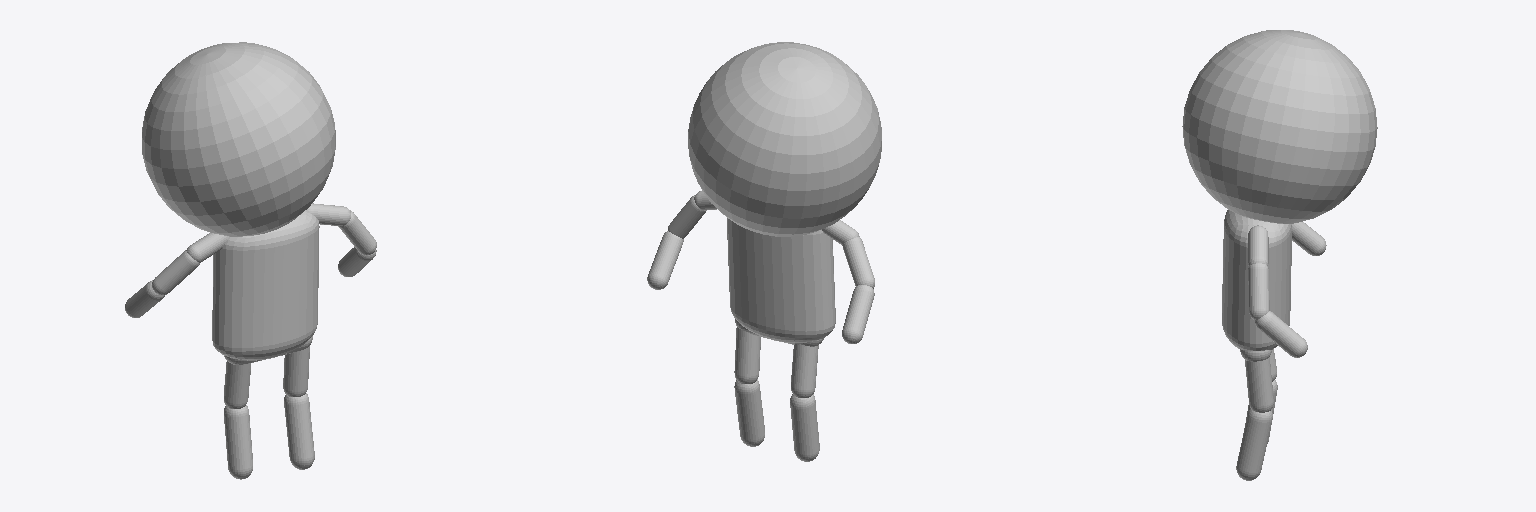
Rendered from Stickman_000071.obj.
The picture shows the model from 3 angles: view 1: azimuth 30°, elevation 25°; view 2: azimuth 150°, elevation 25°; view 3: azimuth 270°, elevation 25°; orthographic projection.
Parts seen in each view (by area): view 1: Head_Sphere.001, Body_Roundcube.002, LowerLegLeft_Roundcube.013, LowerLegRight_Roundcube.011, UpperLegLeft_Roundcube.012, UpperLegRight_Roundcube.010, UpperArmRight_Roundcube.015, UpperArmLeft_Roundcube.018, LowerArmRight_Roundcube.016, ShoulderLeft_Roundcube.017, ShoulderRight_Roundcube.014, LowerArmLeft_Roundcube.019; view 2: Head_Sphere.001, Body_Roundcube.002, LowerLegRight_Roundcube.011, LowerLegLeft_Roundcube.013, UpperLegRight_Roundcube.010, UpperLegLeft_Roundcube.012, LowerArmRight_Roundcube.016, LowerArmLeft_Roundcube.019, UpperArmRight_Roundcube.015, UpperArmLeft_Roundcube.018; view 3: Head_Sphere.001, Body_Roundcube.002, LowerLegLeft_Roundcube.013, UpperLegLeft_Roundcube.012, LowerArmLeft_Roundcube.019, UpperArmLeft_Roundcube.018, LowerArmRight_Roundcube.016, ShoulderLeft_Roundcube.017.
Boxes of the visible parts, x1=… form: Head_Sphere.001: x1=142, y1=42, x2=335, y2=236; Body_Roundcube.002: x1=212, y1=210, x2=319, y2=360; LowerLegLeft_Roundcube.013: x1=284, y1=393, x2=314, y2=469; LowerLegRight_Roundcube.011: x1=224, y1=405, x2=252, y2=479; UpperLegLeft_Roundcube.012: x1=283, y1=346, x2=309, y2=396; UpperLegRight_Roundcube.010: x1=224, y1=361, x2=250, y2=408; UpperArmRight_Roundcube.015: x1=152, y1=250, x2=199, y2=294; UpperArmLeft_Roundcube.018: x1=338, y1=210, x2=376, y2=255; LowerArmRight_Roundcube.016: x1=125, y1=280, x2=164, y2=317; ShoulderLeft_Roundcube.017: x1=307, y1=203, x2=350, y2=225; ShoulderRight_Roundcube.014: x1=186, y1=233, x2=228, y2=262; LowerArmLeft_Roundcube.019: x1=338, y1=247, x2=376, y2=276; Head_Sphere.001: x1=688, y1=42, x2=881, y2=236; Body_Roundcube.002: x1=727, y1=218, x2=835, y2=342; LowerLegRight_Roundcube.011: x1=790, y1=394, x2=819, y2=461; LowerLegLeft_Roundcube.013: x1=734, y1=379, x2=764, y2=446; UpperLegRight_Roundcube.010: x1=791, y1=344, x2=818, y2=397; UpperLegLeft_Roundcube.012: x1=734, y1=327, x2=760, y2=383; LowerArmRight_Roundcube.016: x1=842, y1=285, x2=874, y2=343; LowerArmLeft_Roundcube.019: x1=647, y1=231, x2=683, y2=289; UpperArmRight_Roundcube.015: x1=842, y1=237, x2=874, y2=288; UpperArmLeft_Roundcube.018: x1=668, y1=195, x2=705, y2=238; Head_Sphere.001: x1=1182, y1=30, x2=1377, y2=223; Body_Roundcube.002: x1=1222, y1=210, x2=1291, y2=350; LowerLegLeft_Roundcube.013: x1=1236, y1=408, x2=1272, y2=480; UpperLegLeft_Roundcube.012: x1=1245, y1=357, x2=1273, y2=412; LowerArmLeft_Roundcube.019: x1=1255, y1=311, x2=1307, y2=357; UpperArmLeft_Roundcube.018: x1=1248, y1=263, x2=1269, y2=319; LowerArmRight_Roundcube.016: x1=1292, y1=222, x2=1326, y2=255; ShoulderLeft_Roundcube.017: x1=1248, y1=225, x2=1268, y2=265.
Size of the model in its own units: 7.19 by 12.83 by 5.43.